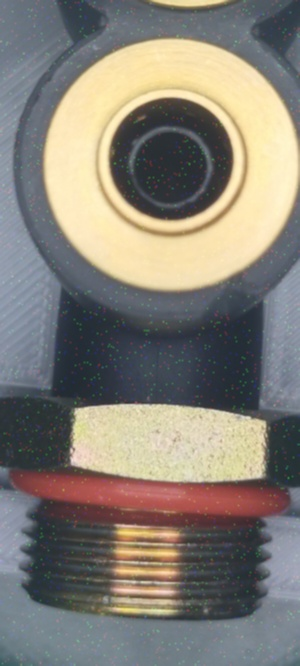bump: (200, 281, 258, 325)
joint line: (148, 333, 168, 403)
